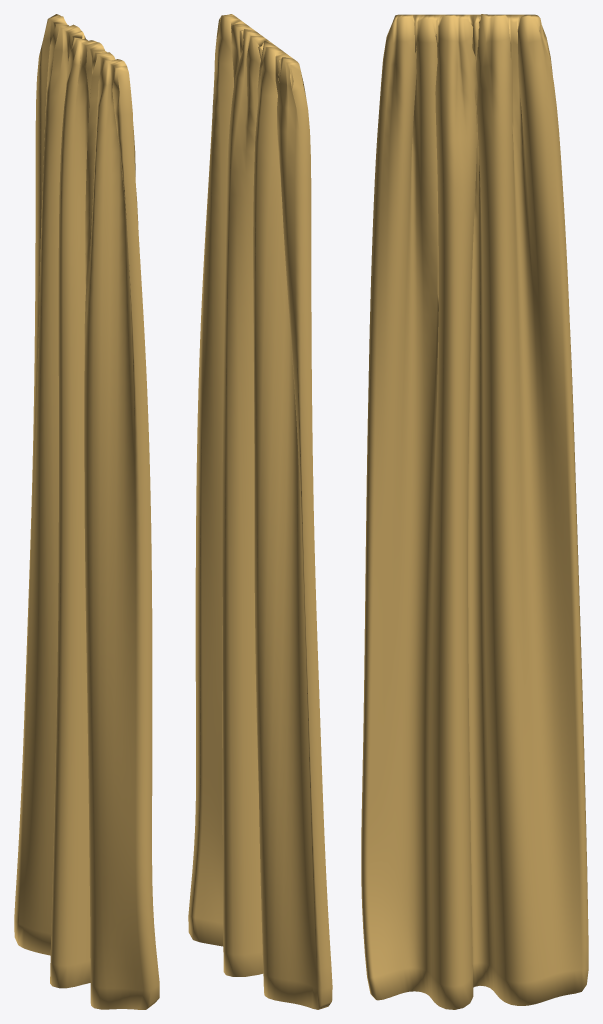
Rendered from SideCurtain.fbx.
3 views of the same model, side by side, from view 1: azimuth 30°, elevation 25°; view 2: azimuth 210°, elevation 25°; view 3: azimuth 270°, elevation 25° (orthographic). The views are drawn at different scales.
Parts seen in each view (by area): view 1: Low Poly Tall Curtains.001; view 2: Low Poly Tall Curtains.001; view 3: Low Poly Tall Curtains.001.
Boxes of the visible parts, x1,y1,x2,y2 form: Low Poly Tall Curtains.001: (14,14,159,1009); Low Poly Tall Curtains.001: (188,14,332,1009); Low Poly Tall Curtains.001: (361,14,588,1009).
Size of the model in its own units: 104 by 1612 by 338.
